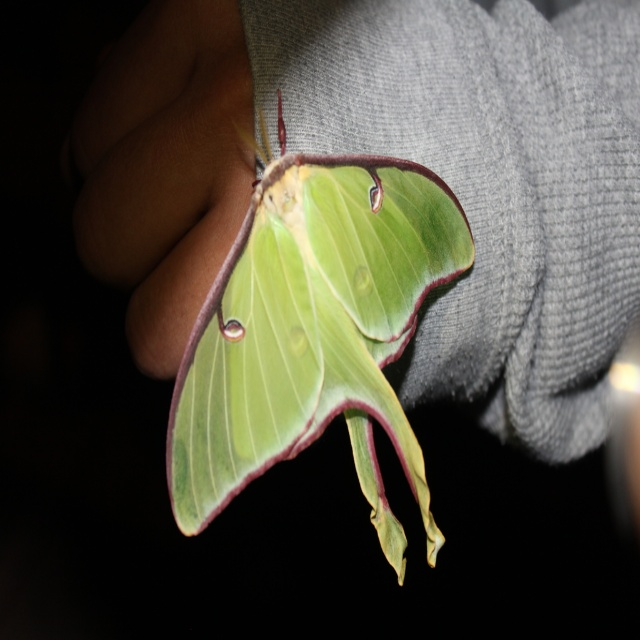Butterfly: (178, 96, 459, 570)
